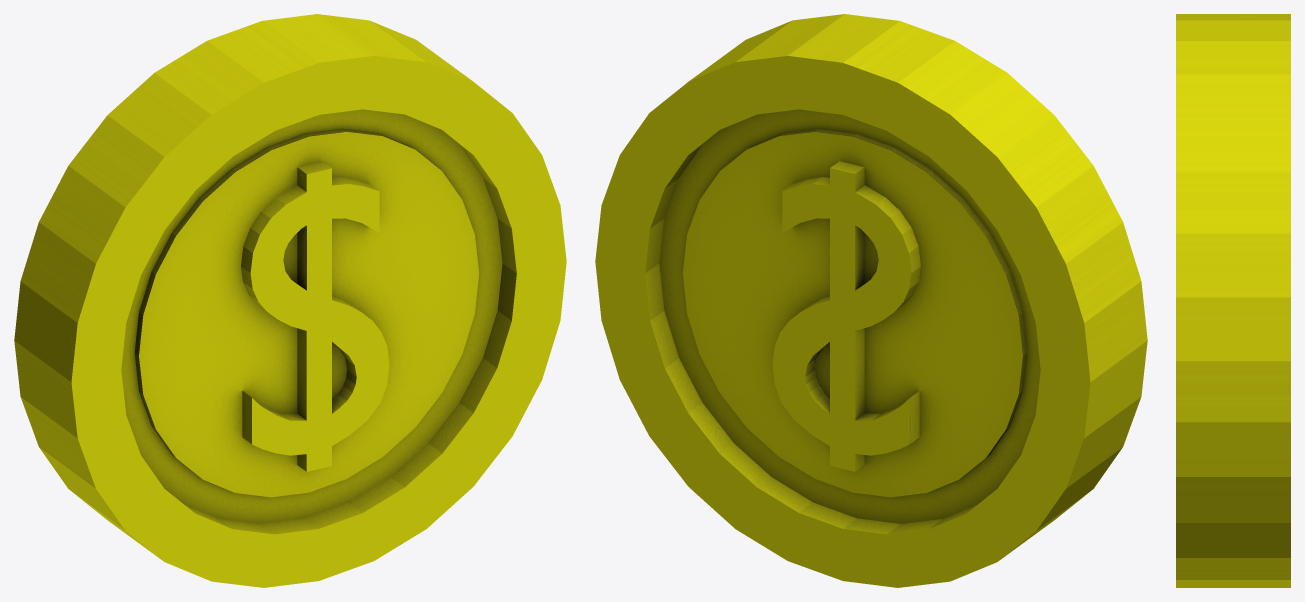
The model's file is Coin.fbx.
The picture shows the model from 3 angles, left to right: view 1: azimuth 30°, elevation 25°; view 2: azimuth 150°, elevation 25°; view 3: azimuth 270°, elevation 25°; orthographic projection.
Parts seen in each view (by area): view 1: Coin.Mesh; view 2: Coin.Mesh; view 3: Coin.Mesh.
Part boxes in pixels (<box>): Coin.Mesh: <box>14,14,566,587</box>; Coin.Mesh: <box>595,14,1147,587</box>; Coin.Mesh: <box>1176,14,1290,587</box>.
Bounding box in the file's own units: 0.6 × 0.6 × 0.12.
